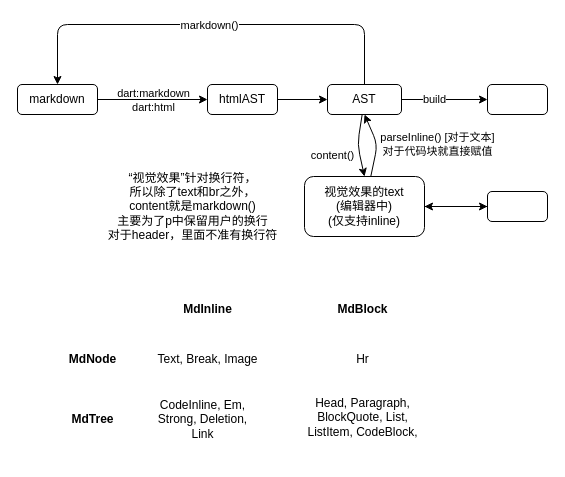
Some shapes in this 565 by 477 pixel diagram are drawn without their labels. Each missing label, with the centre of its shape:
"Editor" belongs at [517,206].
"Widget" belongs at [517,99].
